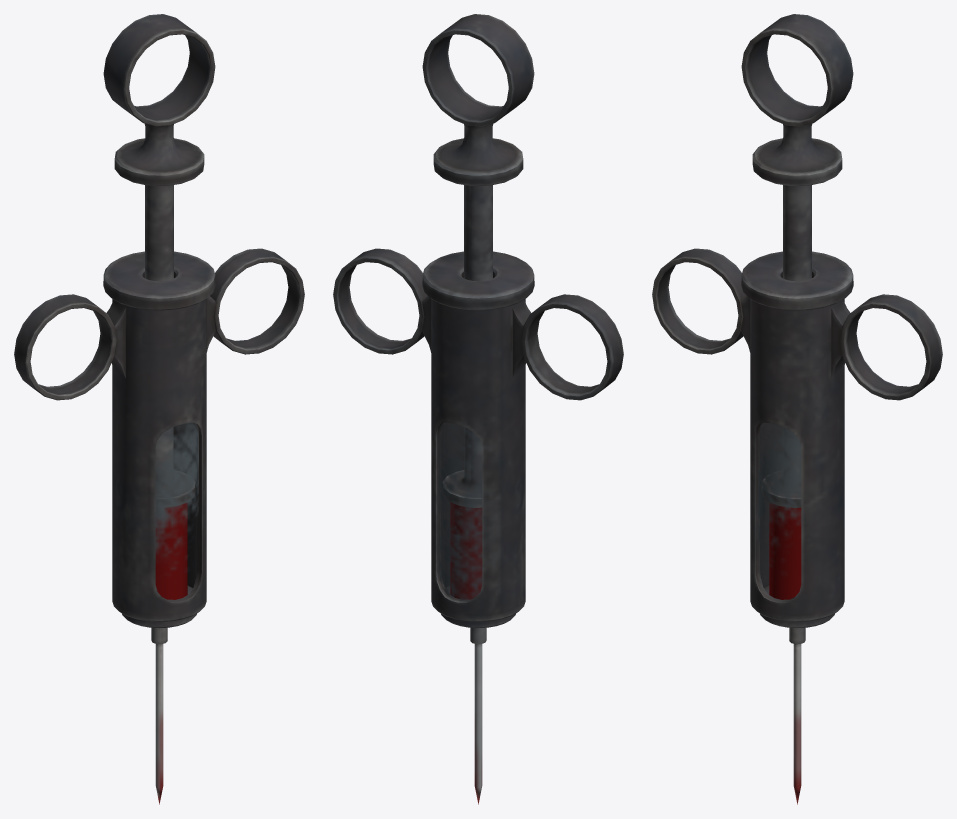
Rendered from syringe.glb.
3 renders of one model, left to right at view 1: azimuth 30°, elevation 25°; view 2: azimuth 150°, elevation 25°; view 3: azimuth 330°, elevation 25°, orthographic.
Parts seen in each view (by area): view 1: base, pump, liquid; view 2: base, pump, liquid; view 3: base, pump, liquid.
Boxes of the visible parts, <box> form: base: <box>14,248,304,804</box>; pump: <box>103,14,215,507</box>; liquid: <box>155,503,187,599</box>; base: <box>333,248,623,804</box>; pump: <box>422,14,534,507</box>; liquid: <box>450,502,482,599</box>; base: <box>652,248,942,804</box>; pump: <box>741,14,853,507</box>; liquid: <box>769,503,801,599</box>.
Bounding box in the file's own units: 8.6 × 23.04 × 3.
Materials: 1 (1 with a texture image).
